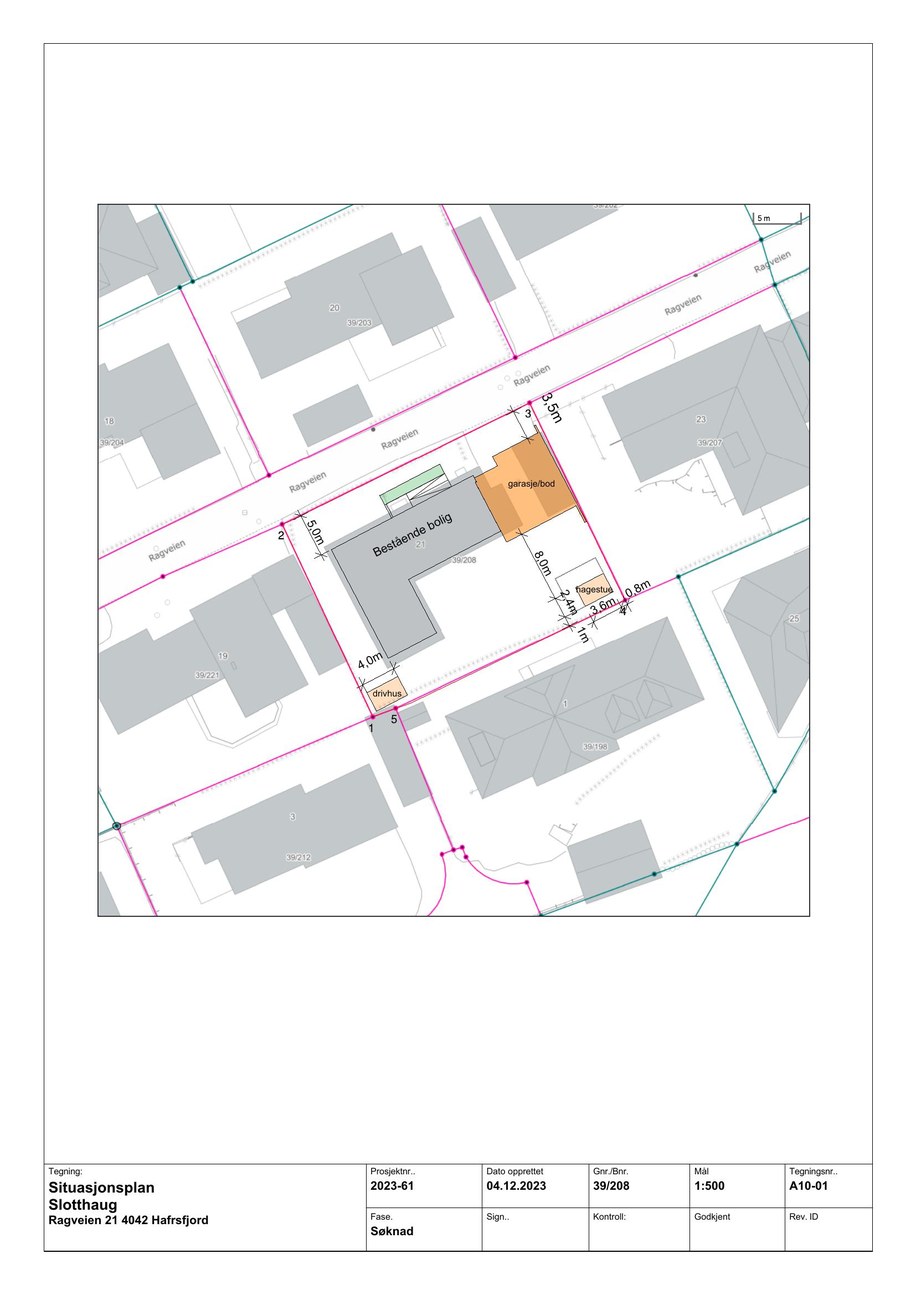situasjonskart: (98, 205, 807, 915)
